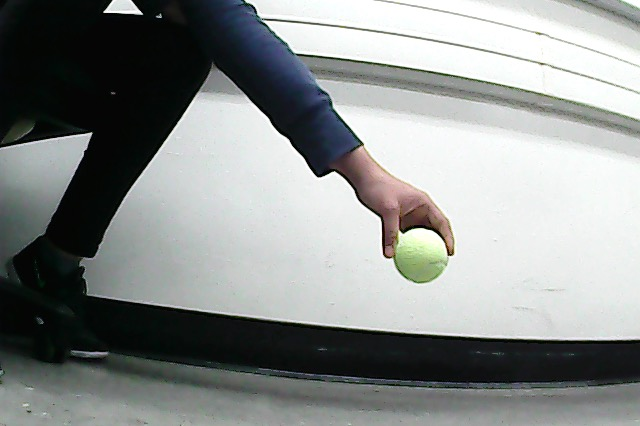ball: (391, 226, 454, 287)
